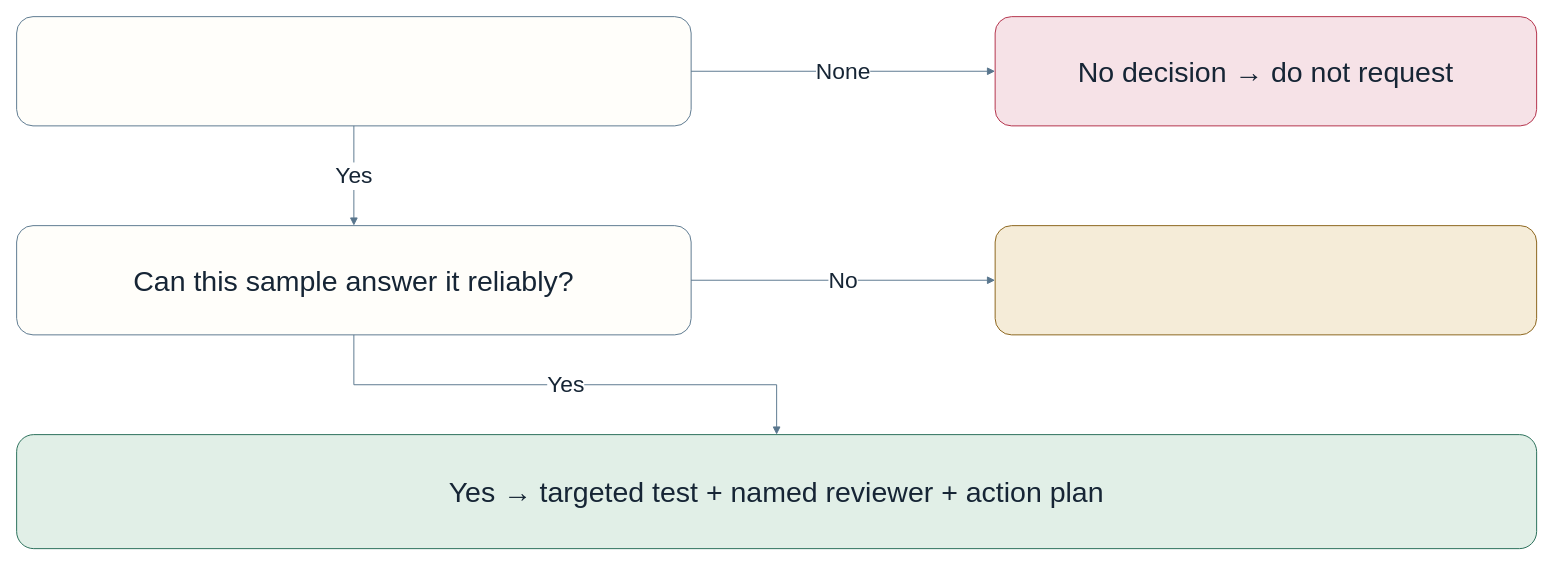
Image size: 1553x565. Some labels were removed from this diagram. Here are the shapes that lost their labels. From the top down, the centre of each, then its label:
the point at 353,71: Name the decision this result could change
the point at 1265,280: No → defer / agree a lab plan
